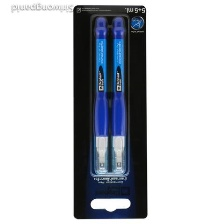book: (71, 3, 150, 222)
correction_fluid: (91, 16, 111, 175), (109, 16, 128, 175)
